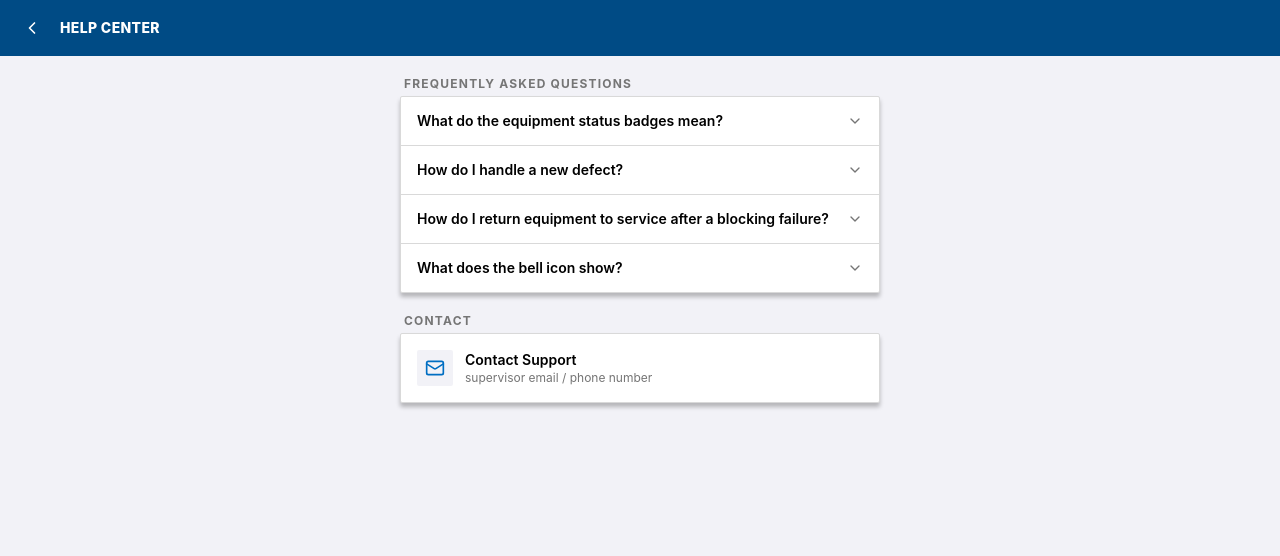
Test case: dashboard help page › expands an FAQ item on click
Click the button "What do the equipment status badges mean?".
click(640, 121)  # box [401,97,879,145]
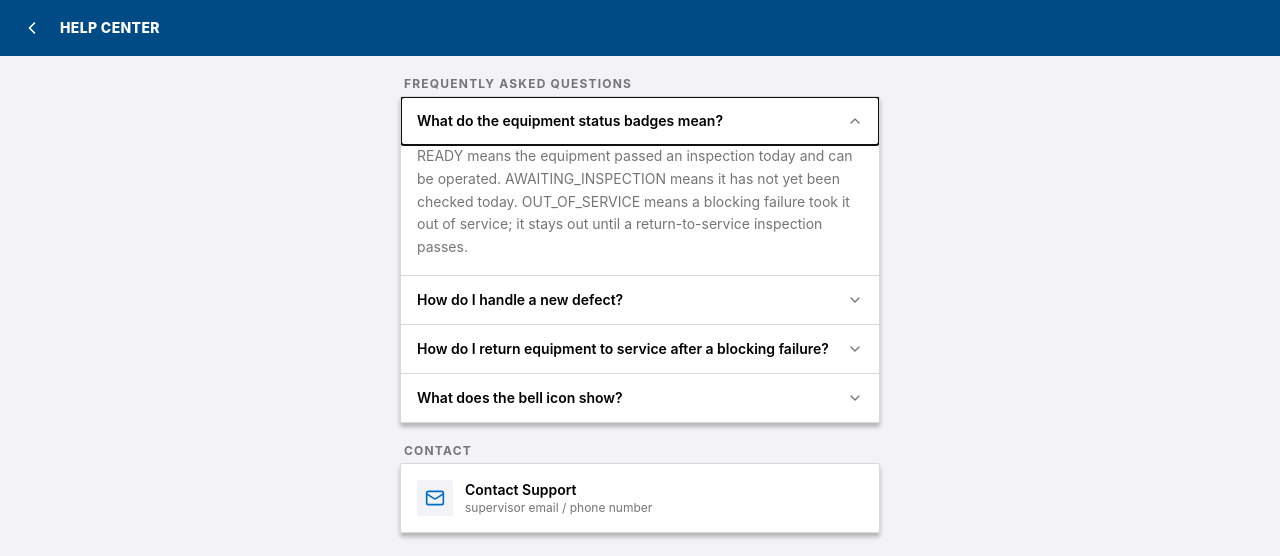
Expected: the text "AWAITING_INSPECTION" is shown, [417,147,853,255]
